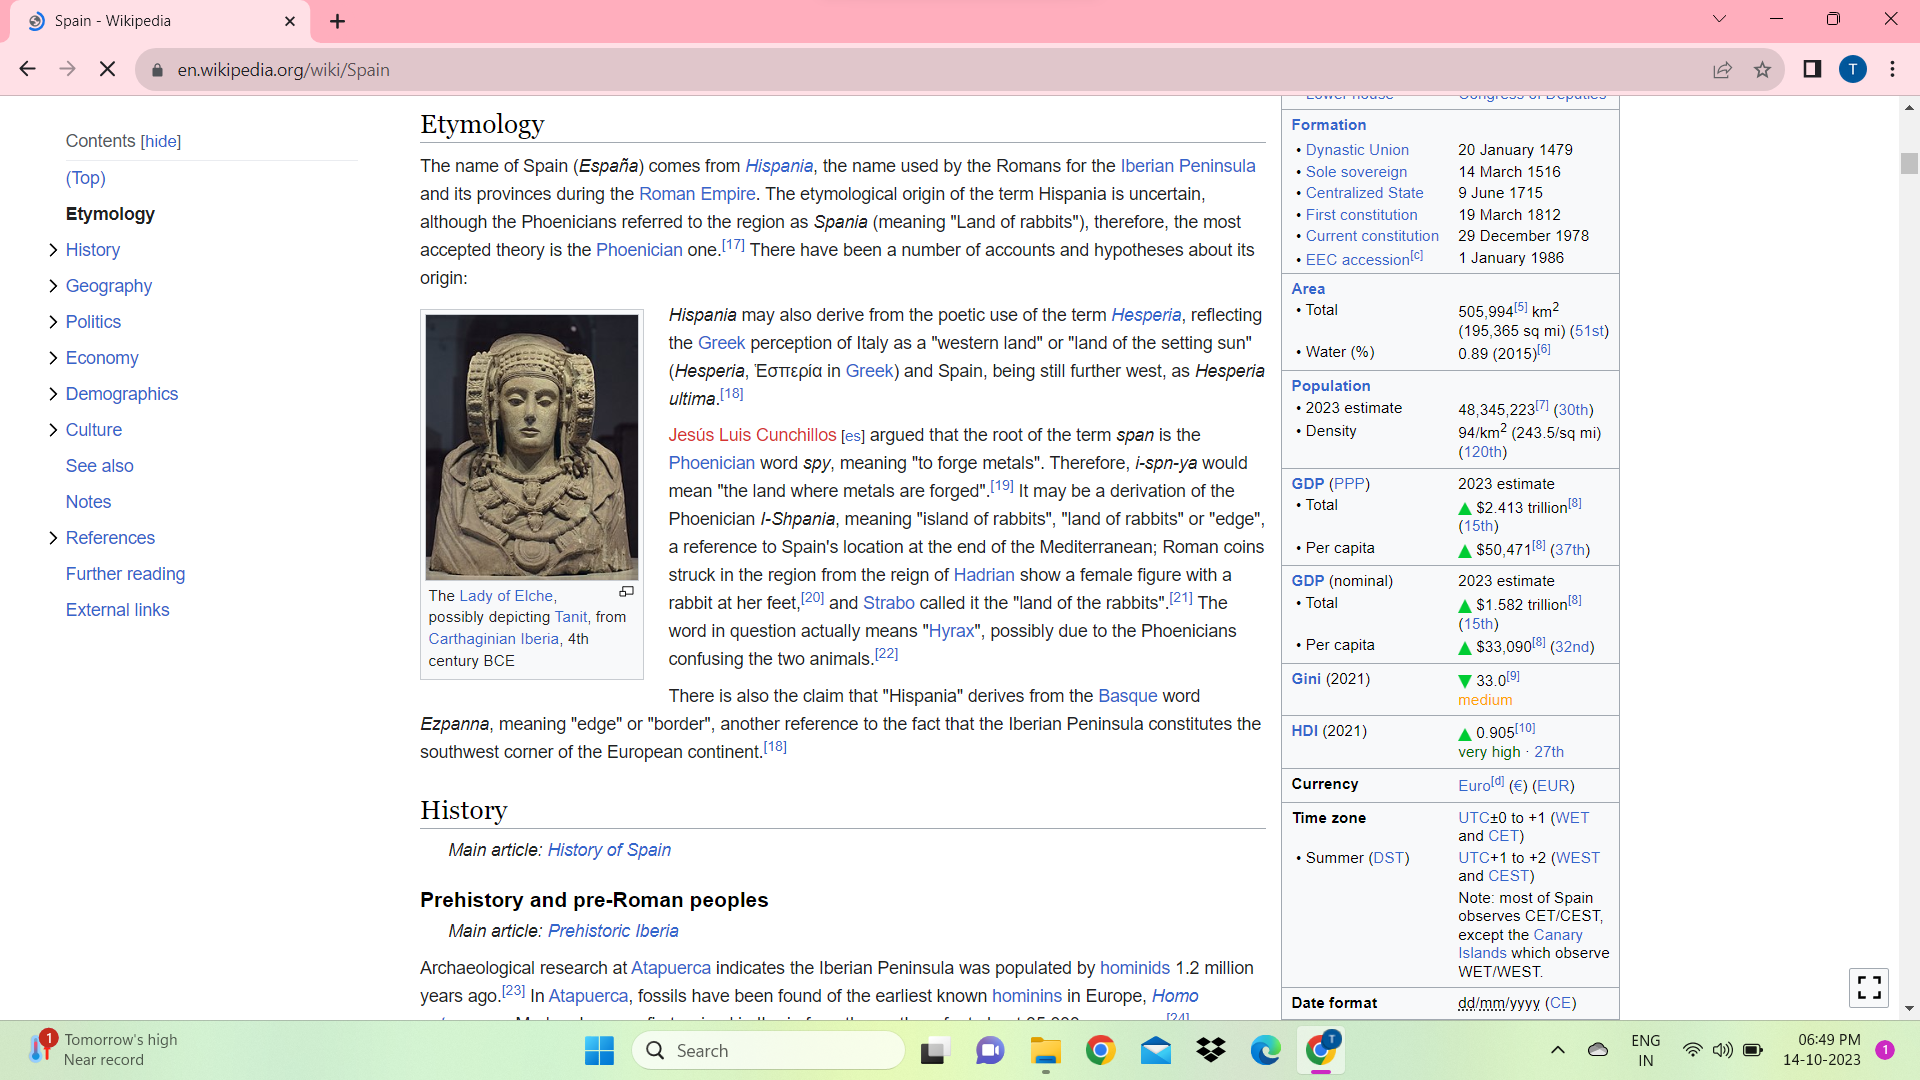Image: (418, 306, 644, 583)
Paragraph: (658, 427, 1269, 671), (411, 156, 1266, 289), (393, 678, 1275, 779), (654, 299, 1273, 418), (394, 945, 1259, 1025), (421, 589, 638, 669), (401, 880, 779, 910), (447, 832, 691, 869), (407, 108, 560, 145), (57, 272, 179, 305), (51, 199, 177, 228), (58, 129, 207, 153), (58, 339, 153, 376), (407, 790, 518, 818), (58, 414, 145, 442), (57, 489, 128, 516)
